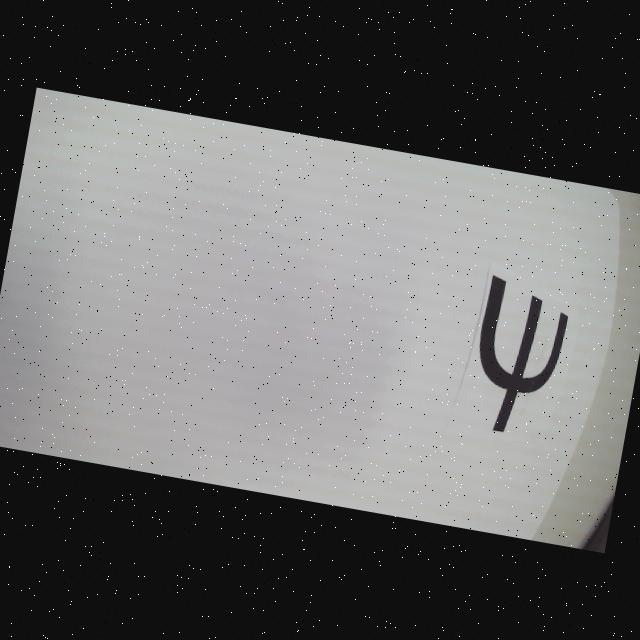PSI: (462, 274, 572, 441)
